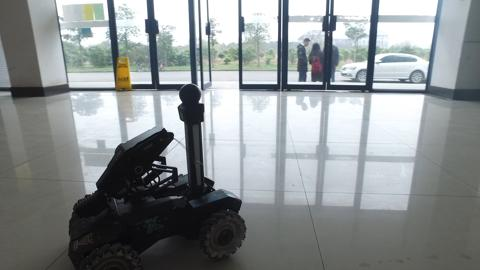chariot: (44, 81, 257, 270)
